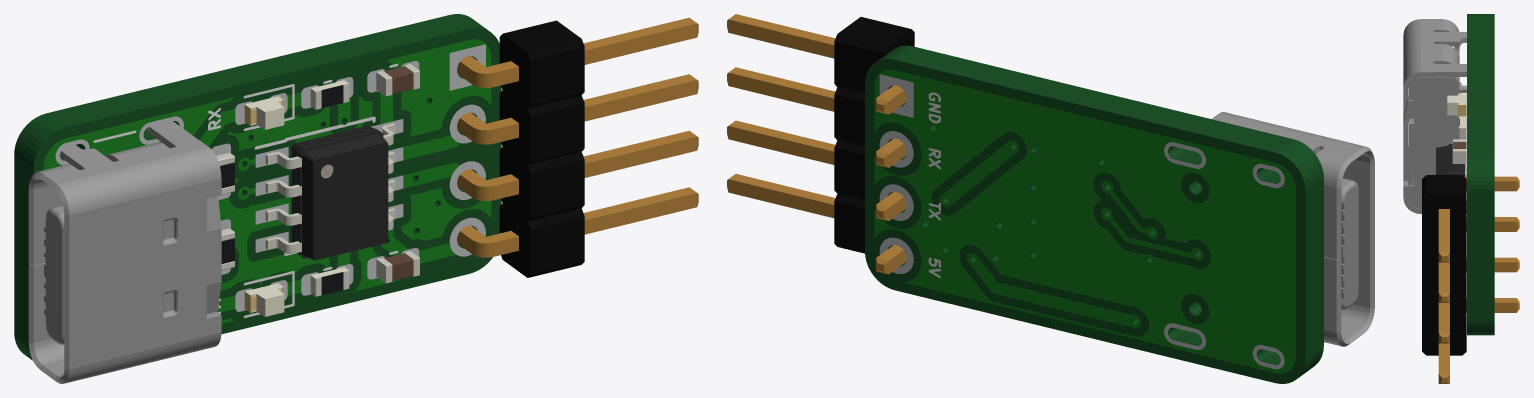
File: usb-to-uart.dae
The picture shows the model from 3 angles, left to right: view 1: azimuth 30°, elevation 25°; view 2: azimuth 150°, elevation 25°; view 3: azimuth 270°, elevation 25°; orthographic projection. The views are drawn at different scales.
Parts seen in each view (by area): view 1: _ncl1_1286, _ncl1_156, TXFM_293, _ncl1_1288, TXFM_155, TXFM_294, _ncl1_808, _ncl1_380, _ncl1_374, _ncl1_828, _ncl1_816, _ncl1_840 (+19 smaller); view 2: TXFM_295, _ncl1_1286, _ncl1_1288, TXFM_296, _ncl1_132, _ncl1_592, _ncl1_806, _ncl1_910, _ncl1_902, _ncl1_918, _ncl1_892, _ncl1_374 (+14 smaller); view 3: _ncl1_1288, _ncl1_810, _ncl1_118, _ncl1_374, _ncl1_380, _ncl1_804, _ncl1_908, _ncl1_144, _ncl1_890, _ncl1_900, _ncl1_916, TXFM_198 (+17 smaller).
Part boxes in pixels (<box>): _ncl1_1286: <box>33,28,501,334</box>; _ncl1_156: <box>69,178,221,368</box>; TXFM_293: <box>44,39,491,323</box>; _ncl1_1288: <box>14,14,488,360</box>; TXFM_155: <box>313,142,388,260</box>; TXFM_294: <box>55,44,485,311</box>; _ncl1_808: <box>499,34,530,277</box>; _ncl1_380: <box>57,147,221,215</box>; _ncl1_374: <box>42,121,208,184</box>; _ncl1_828: <box>530,103,584,161</box>; _ncl1_816: <box>530,47,584,104</box>; _ncl1_840: <box>530,160,584,217</box>; TXFM_295: <box>874,69,1295,373</box>; _ncl1_1286: <box>865,59,1305,383</box>; _ncl1_1288: <box>877,45,1323,377</box>; TXFM_296: <box>879,74,1284,369</box>; _ncl1_132: <box>1315,154,1370,307</box>; _ncl1_592: <box>1343,186,1357,305</box>; _ncl1_806: <box>834,41,885,91</box>; _ncl1_910: <box>728,19,834,58</box>; _ncl1_902: <box>728,72,834,111</box>; _ncl1_918: <box>728,179,834,218</box>; _ncl1_892: <box>728,126,834,164</box>; _ncl1_374: <box>1211,113,1361,158</box>; _ncl1_1288: <box>1467,14,1494,335</box>; _ncl1_810: <box>1422,193,1466,355</box>; _ncl1_118: <box>1409,77,1459,208</box>; _ncl1_374: <box>1421,19,1466,72</box>; _ncl1_380: <box>1403,19,1420,87</box>; _ncl1_804: <box>1426,175,1462,193</box>; _ncl1_908: <box>1438,209,1449,252</box>; _ncl1_144: <box>1403,101,1413,185</box>; _ncl1_890: <box>1438,303,1449,333</box>; _ncl1_900: <box>1438,262,1449,292</box>; _ncl1_916: <box>1438,343,1449,373</box>; TXFM_198: <box>1436,145,1448,172</box>.
Size of the model in its own units: 0.031 by 0.011 by 0.0066.
